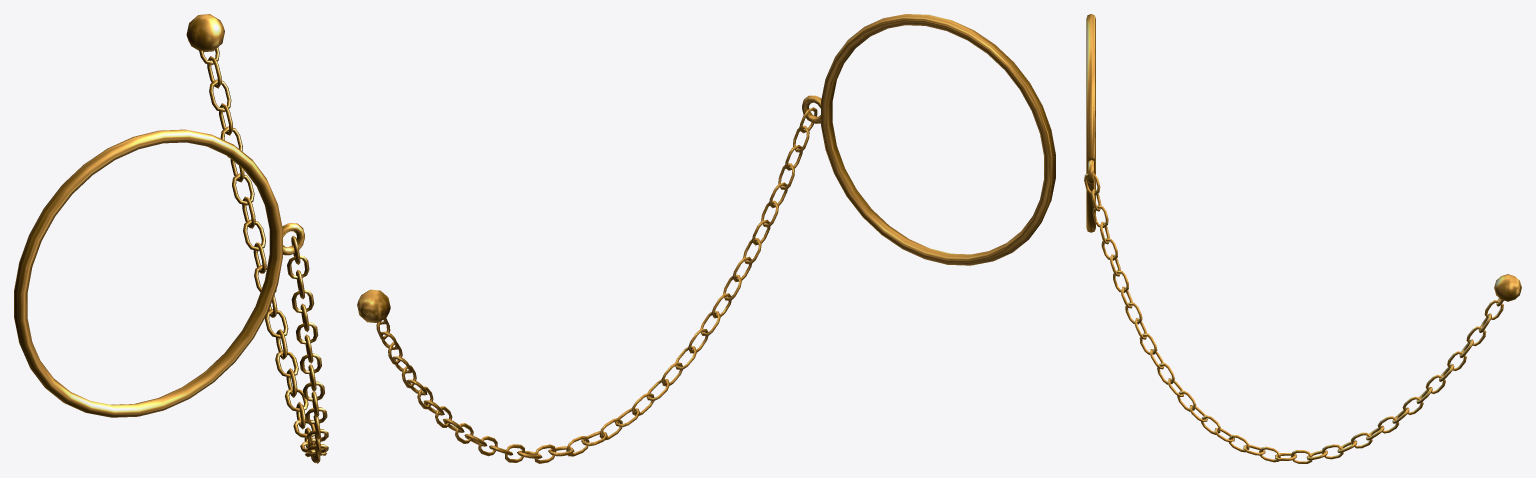
Rendered from 11-Gold-Monocle-102048301262678.glb.
The picture shows the model from 3 angles, left to right: view 1: azimuth 30°, elevation 25°; view 2: azimuth 150°, elevation 25°; view 3: azimuth 270°, elevation 25°; orthographic projection. The views are drawn at different scales.
Visible parts, largest first — view 1: 11-Gold-Monocle-102048301262678; view 2: 11-Gold-Monocle-102048301262678; view 3: 11-Gold-Monocle-102048301262678.
Boxes of the visible parts, x1,y1,x2,y2 form: 11-Gold-Monocle-102048301262678: (14, 14, 328, 463); 11-Gold-Monocle-102048301262678: (357, 14, 1055, 463); 11-Gold-Monocle-102048301262678: (1084, 14, 1521, 463).
Size of the model in its own units: 0.608 by 0.5539 by 0.6499.
Materials: 1 (1 with a texture image).
